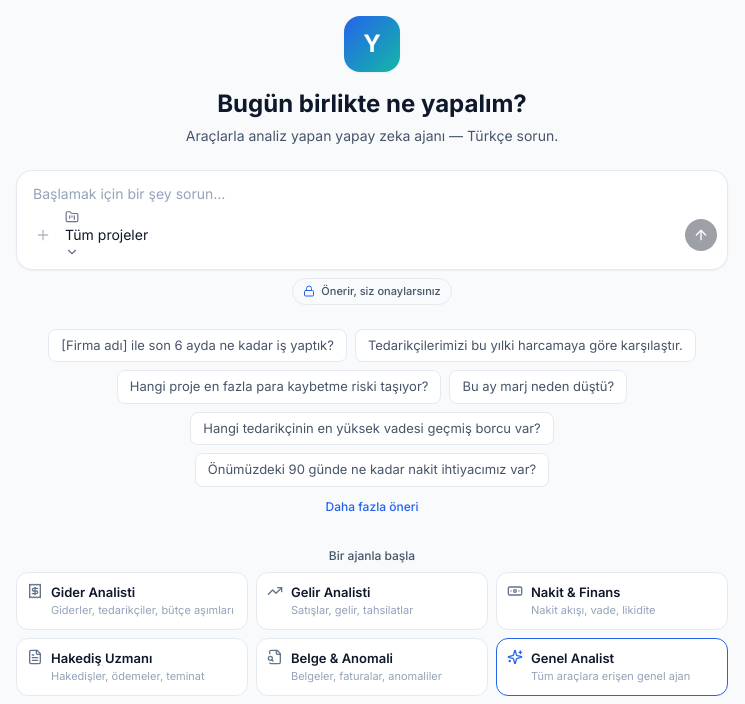
Test case: AIAssistantPage live streaming (CR-011-D) › ignores a new submit while a stream is in flight (loading guard)
Later steps or results of the test are not shown.
Type "ilk soru" into the text box at (372, 188), box x1=17 y1=171 x2=727 y2=206
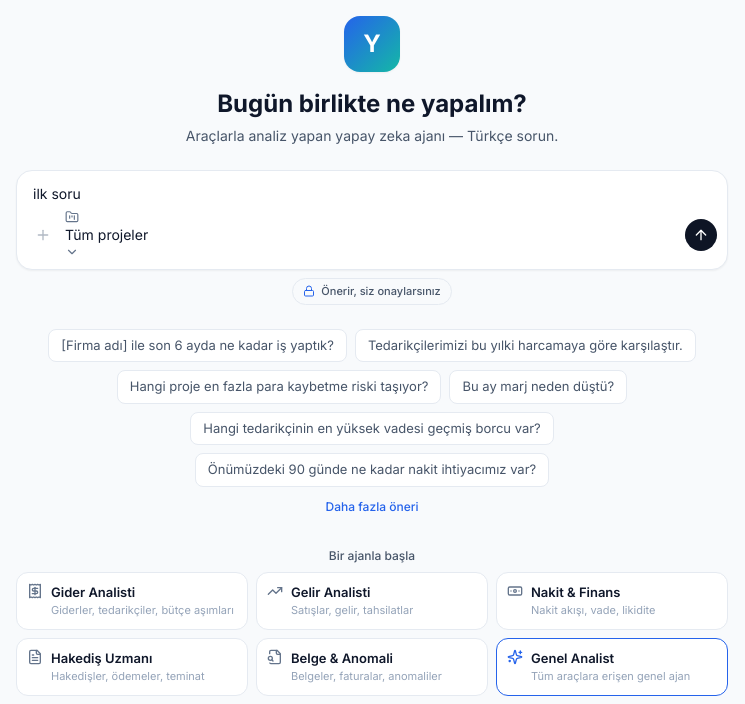
Click the button named "Gönder" at (701, 234), box x1=685 y1=218 x2=717 y2=250
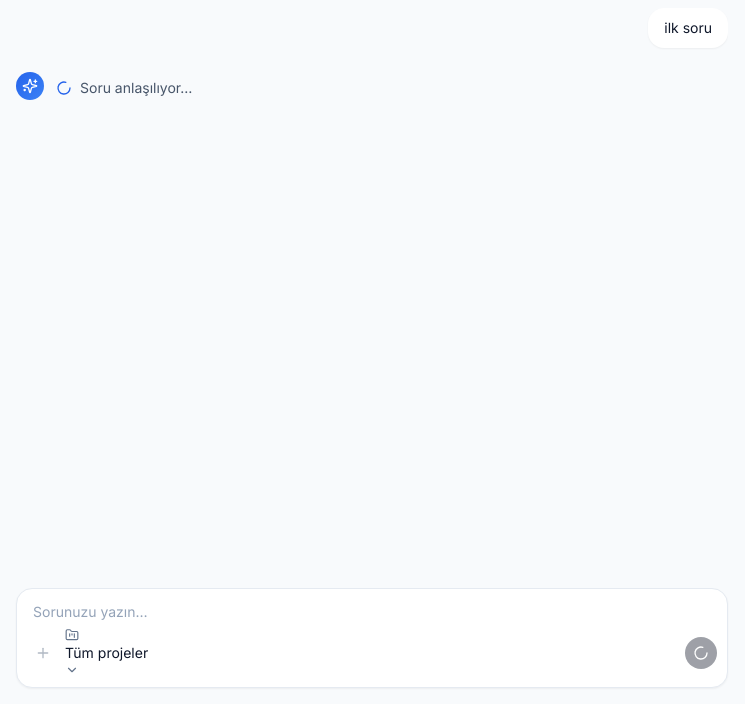
Result: the button named "Gönder" is disabled at x1=685 y1=636 x2=717 y2=668
